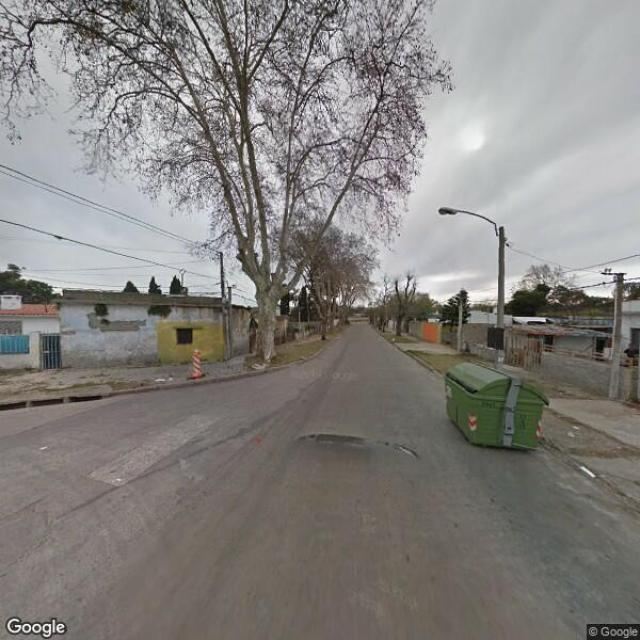garbage container: (437, 358, 558, 470)
